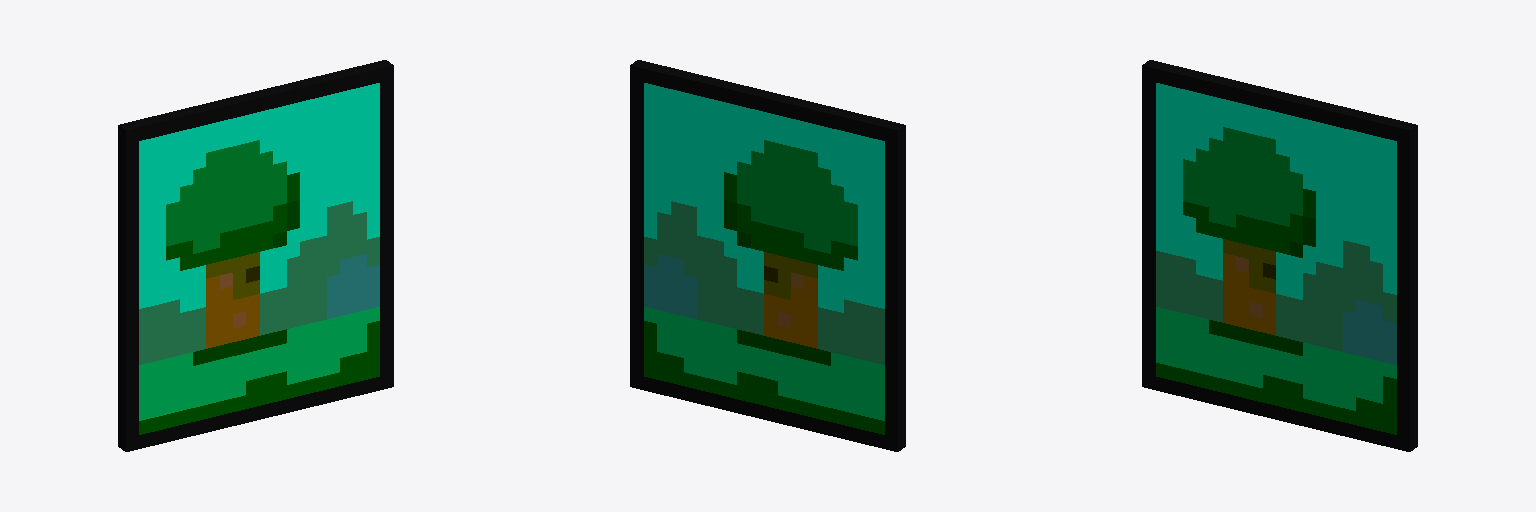
3 renders of one model, left to right at view 1: azimuth 30°, elevation 25°; view 2: azimuth 150°, elevation 25°; view 3: azimuth 330°, elevation 25°, orthographic.
Visible parts, largest first — view 1: poster3_44; view 2: poster3_44; view 3: poster3_44.
Boxes of the visible parts, box(x1,y1,x2,y2) form: poster3_44: box(118, 60, 393, 451); poster3_44: box(630, 60, 905, 451); poster3_44: box(1142, 60, 1417, 451).
Size of the model in its own units: 2 by 2.3 by 0.1.
Materials: 1 (1 with a texture image).